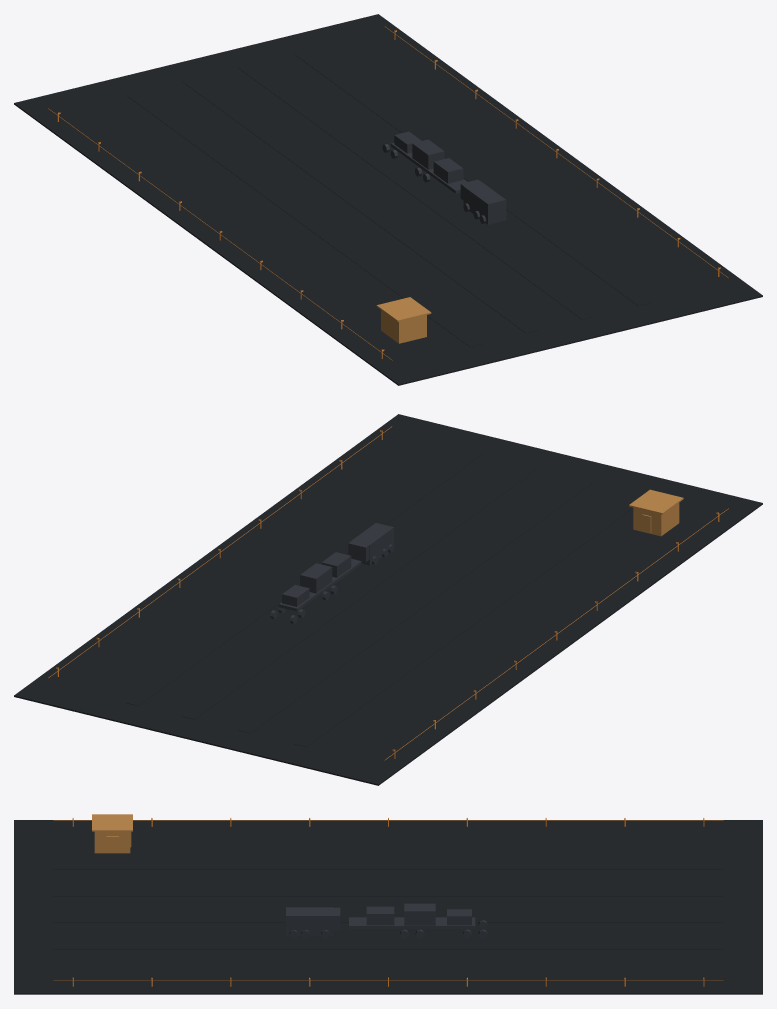
File: hq_railway_l0.glb
3 renders of one model, top to bottom at view 1: azimuth 30°, elevation 25°; view 2: azimuth 150°, elevation 25°; view 3: azimuth 270°, elevation 25°, orthographic. The views are drawn at different scales.
Parts seen in each view (by area): view 1: GEO_Railway_L0_Gravel_Base, GEO_Railway_L0_Road_Truck_Hauler, GEO_Railway_L0_Watchman_Shack, GEO_Railway_L0_Survey_Stakes; view 2: GEO_Railway_L0_Gravel_Base, GEO_Railway_L0_Road_Truck_Hauler, GEO_Railway_L0_Watchman_Shack, GEO_Railway_L0_Survey_Stakes; view 3: GEO_Railway_L0_Gravel_Base, GEO_Railway_L0_Road_Truck_Hauler, GEO_Railway_L0_Survey_Stakes, GEO_Railway_L0_Watchman_Shack.
Part boxes in pixels (box(x1,y1,x2,y2)): GEO_Railway_L0_Gravel_Base: box(14, 14, 762, 385); GEO_Railway_L0_Road_Truck_Hauler: box(382, 131, 506, 224); GEO_Railway_L0_Watchman_Shack: box(376, 297, 431, 343); GEO_Railway_L0_Survey_Stakes: box(48, 26, 728, 360); GEO_Railway_L0_Gravel_Base: box(14, 414, 762, 785); GEO_Railway_L0_Road_Truck_Hauler: box(270, 523, 394, 623); GEO_Railway_L0_Watchman_Shack: box(629, 489, 683, 536); GEO_Railway_L0_Survey_Stakes: box(48, 426, 728, 760); GEO_Railway_L0_Gravel_Base: box(14, 820, 762, 994); GEO_Railway_L0_Road_Truck_Hauler: box(286, 903, 487, 938); GEO_Railway_L0_Survey_Stakes: box(53, 818, 723, 986); GEO_Railway_L0_Watchman_Shack: box(92, 814, 132, 853).
Size of what is drawn, in the model's own units: 52 by 3.8 by 95.
